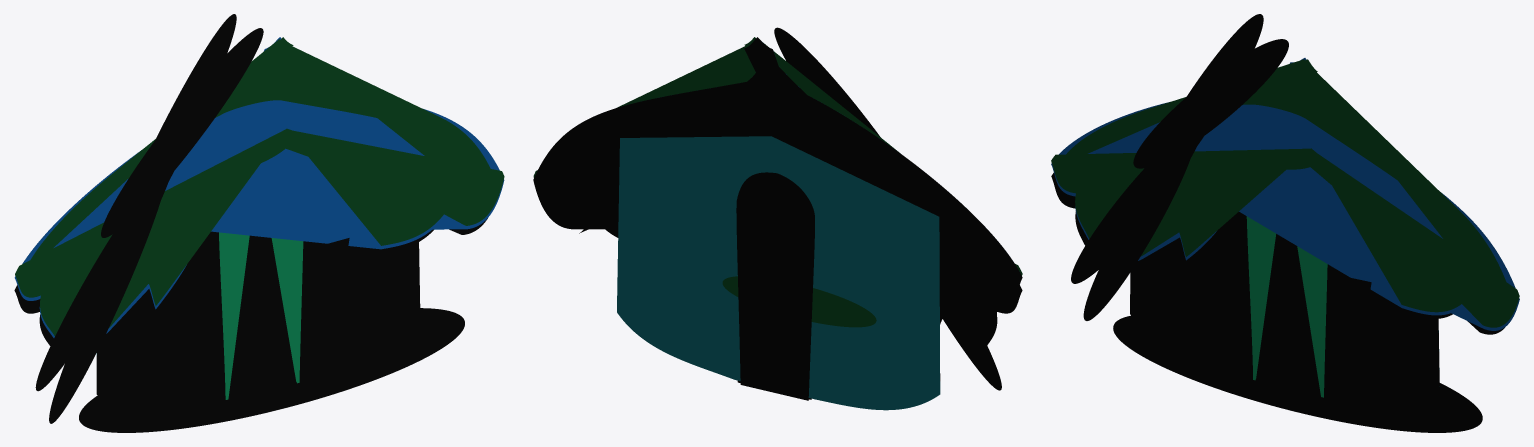
File: Storybook_1_VillageHut.fbx
The picture shows the model from 3 angles, left to right: view 1: azimuth 30°, elevation 25°; view 2: azimuth 150°, elevation 25°; view 3: azimuth 330°, elevation 25°; orthographic projection. The views are drawn at different scales.
Parts seen in each view (by area): view 1: svgMesh1; view 2: svgMesh1; view 3: svgMesh1.
Boxes of the visible parts, x1,y1,x2,y2 form: svgMesh1: (14, 14, 504, 432); svgMesh1: (533, 27, 1022, 410); svgMesh1: (1051, 14, 1519, 432).
Bounding box in the file's own units: 13.33 × 10.58 × 0.027.
